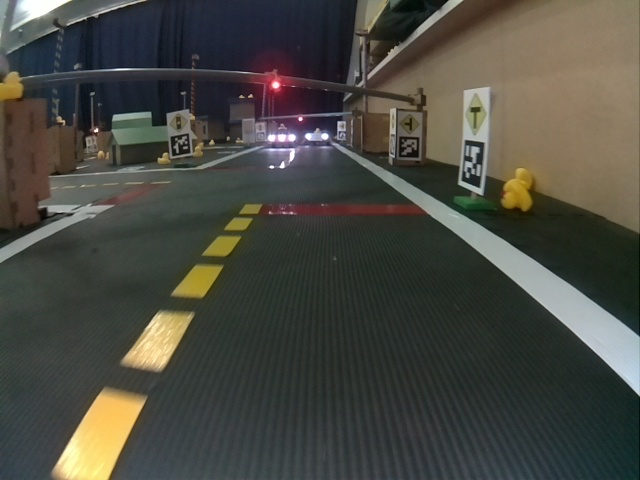Duckie: (501, 187, 529, 210), (1, 72, 23, 99), (512, 168, 531, 189), (158, 152, 168, 163), (194, 147, 202, 155)
Duckiebot: (268, 130, 295, 146), (308, 131, 330, 144)
Intersection sign: (465, 92, 486, 132), (399, 113, 420, 133)
QR code: (459, 143, 483, 192), (172, 135, 191, 156), (398, 137, 418, 156)
Signal sign: (168, 114, 187, 132)
Traffic light: (268, 79, 280, 92)
